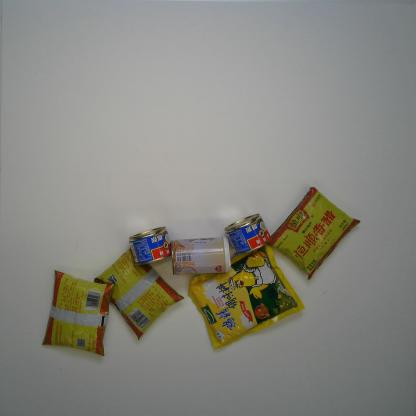Canned Food: (170, 235, 232, 276), (223, 213, 273, 256), (127, 225, 174, 266)
Seasoner: (187, 242, 305, 352), (264, 185, 361, 282), (93, 244, 185, 341), (40, 270, 114, 358)
